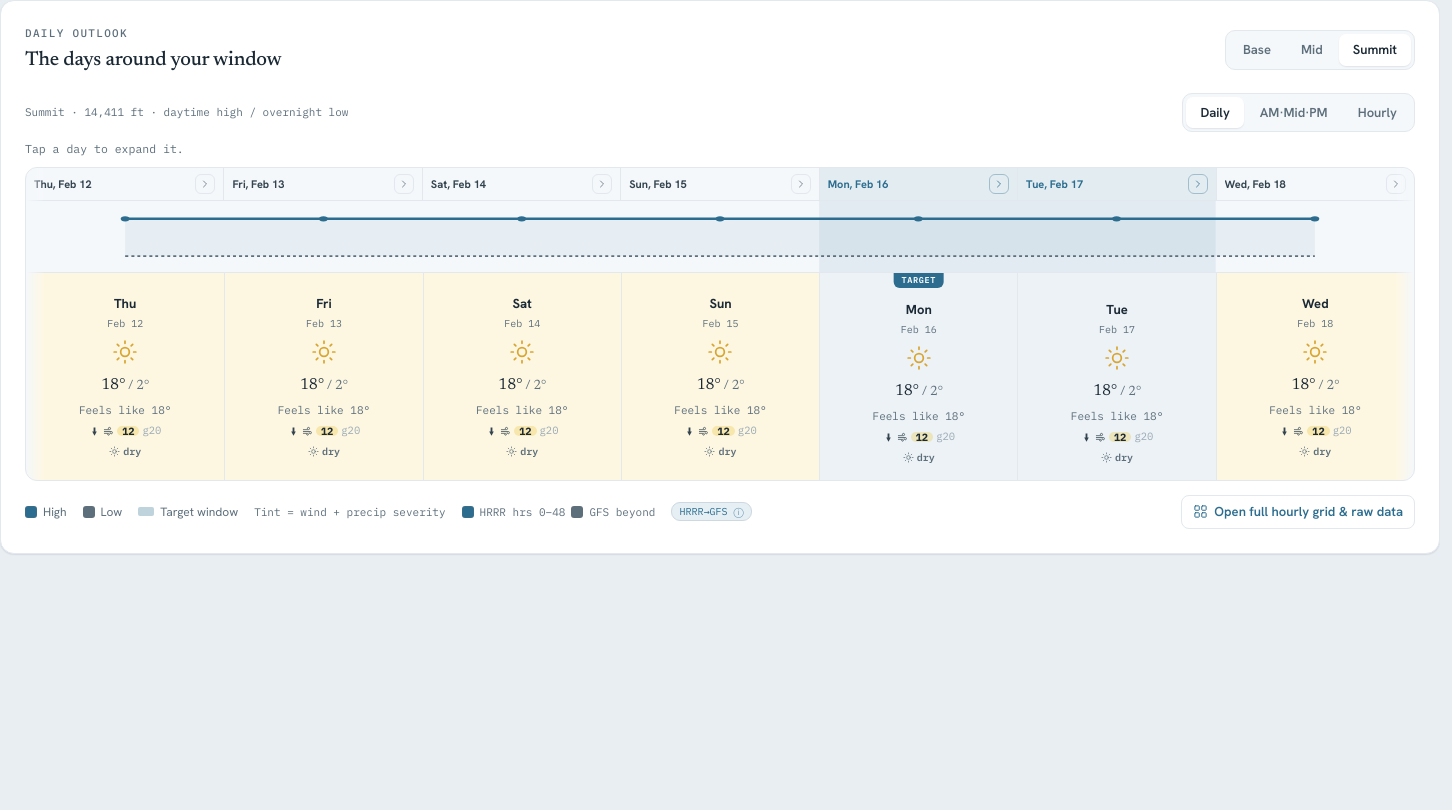
Scenario: DailyOutlook › steps a day up day → period → hour with the expand control
Click the button named "Expand Thu, Feb 12 to AM·Mid·PM detail" at (205, 184), box [195,174,215,194]
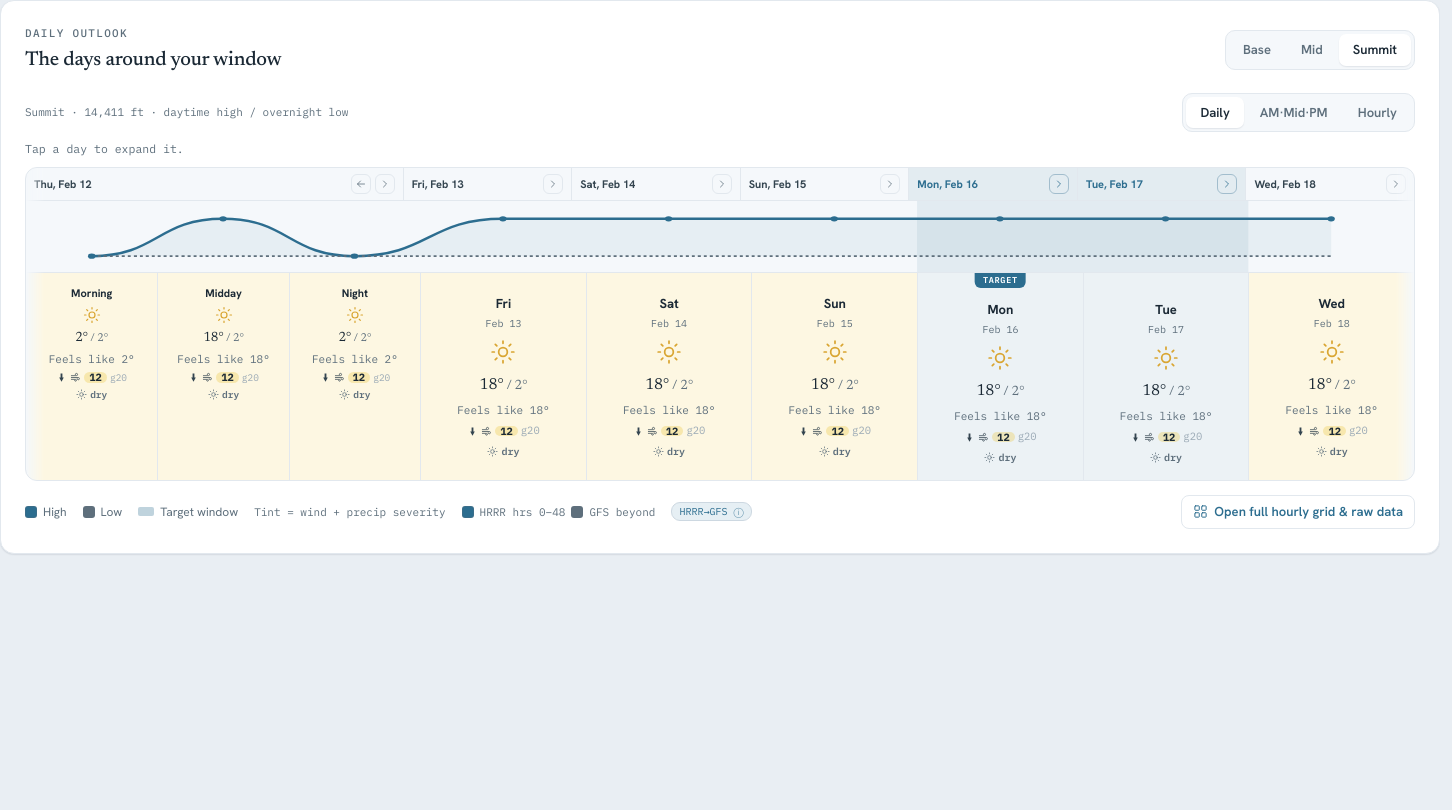
Result: the number of elements with class "day-tile" is 9
Click the button named "Expand Thu, Feb 12 to hourly detail" at (385, 184), box [375,174,395,194]
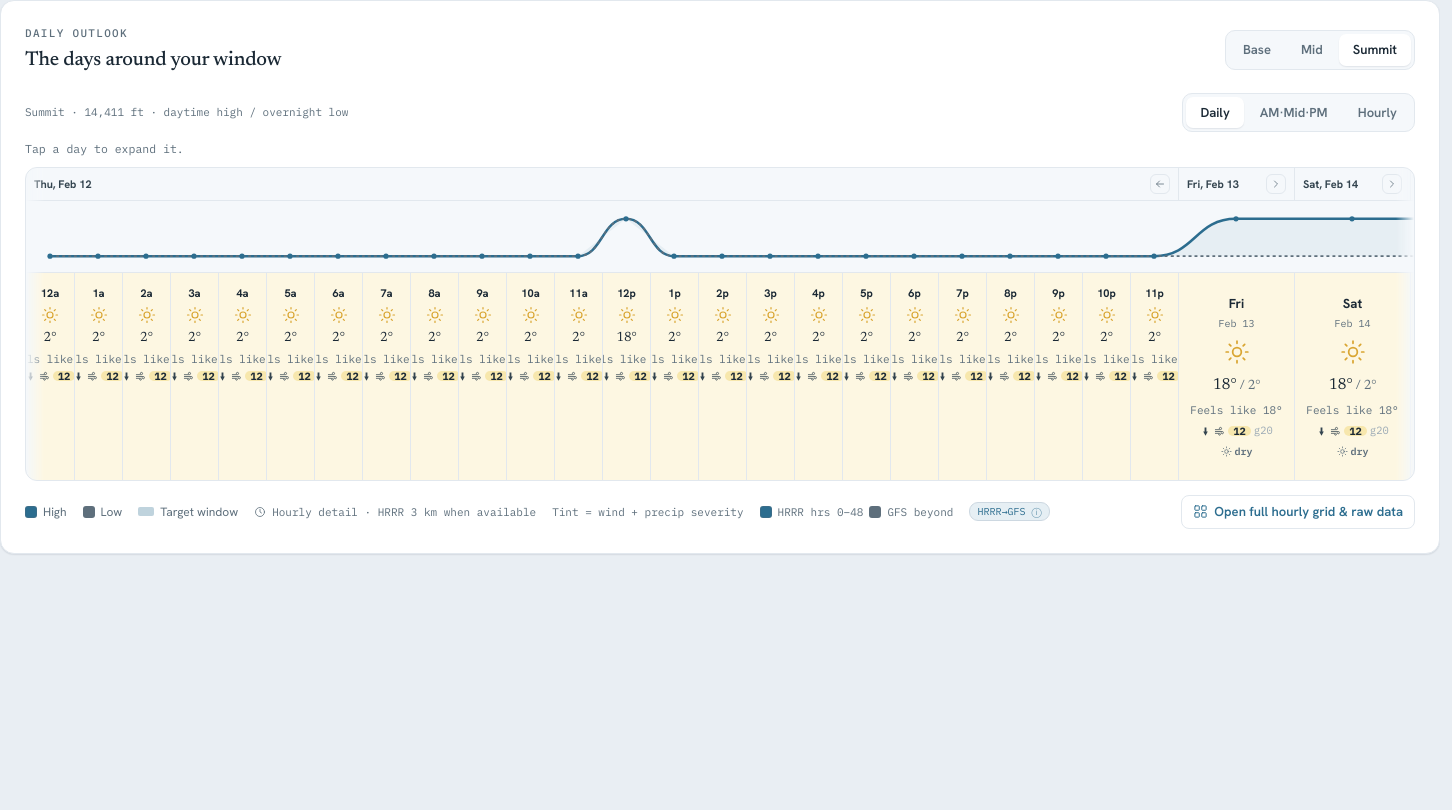
Result: the number of buttons named "Expand Fri, Feb 13 to AM·Mid·PM detail" is 6
